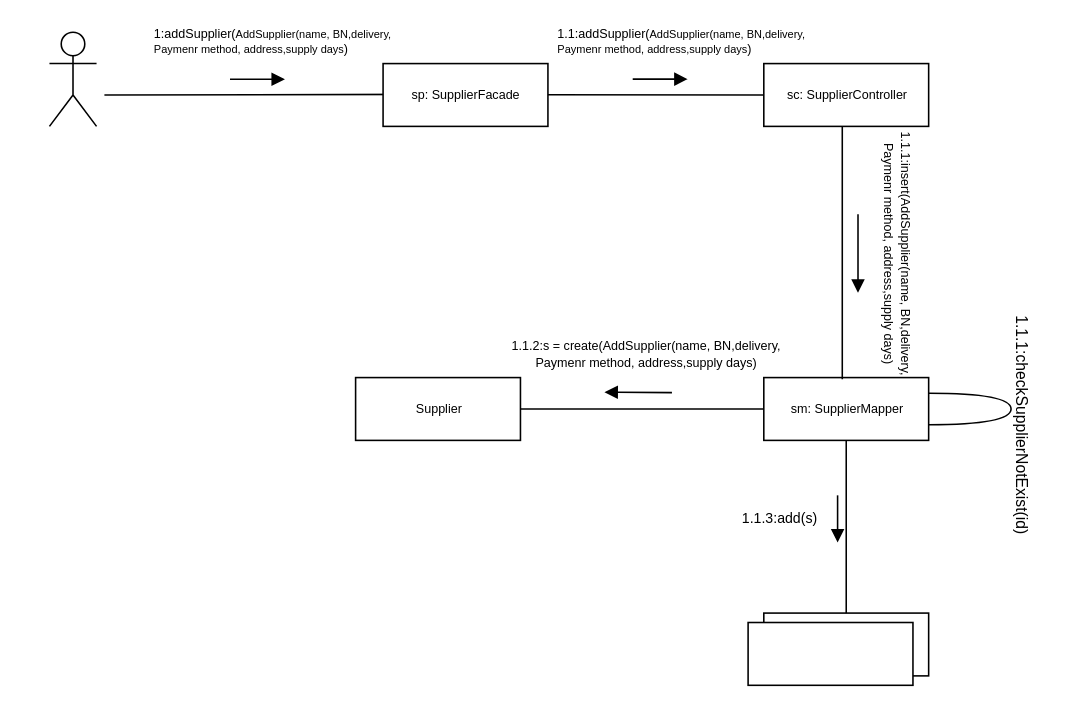
The diagram is 1066 pixels wide and 713 high, and some of its shapes have lost their labels. Each missing label, with the box of its shape:
suppliers: Supplier: (747, 621, 913, 685)
Supply Manager: (48, 31, 97, 126)
